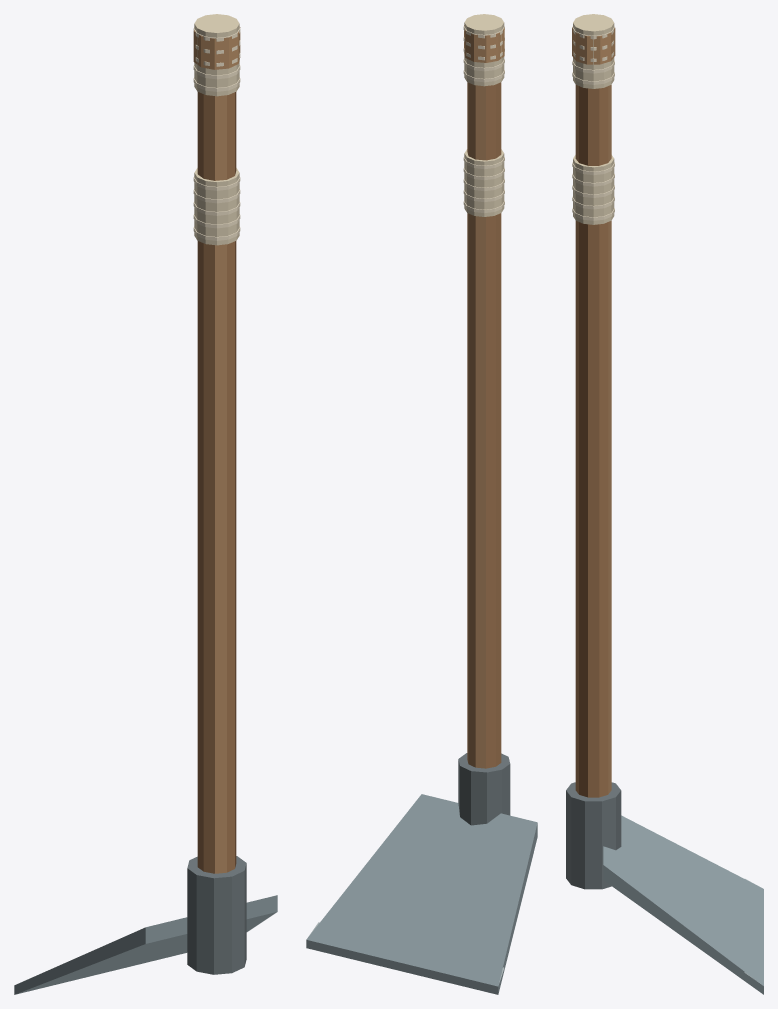
File: hoe.glb
3 renders of one model, left to right at view 1: azimuth 30°, elevation 25°; view 2: azimuth 150°, elevation 25°; view 3: azimuth 270°, elevation 25°, orthographic. The views are drawn at different scales.
Visible parts, largest first — view 1: Hoe_WoodHandle, Hoe_IronSocket, Hoe_ForgedBlade, Hoe_ClothGrip_L, Hoe_ClothGrip_R, Hoe_HandleButt; view 2: Hoe_ForgedBlade, Hoe_WoodHandle, Hoe_IronSocket, Hoe_ClothGrip_L, Hoe_ClothGrip_R, Hoe_HandleButt; view 3: Hoe_WoodHandle, Hoe_ForgedBlade, Hoe_IronSocket, Hoe_ClothGrip_L, Hoe_ClothGrip_R, Hoe_HandleButt.
Boxes of the visible parts, left/top/right/bottom form: Hoe_WoodHandle: left=197, top=92, right=236, bottom=873; Hoe_IronSocket: left=187, top=856, right=246, bottom=974; Hoe_ForgedBlade: left=14, top=895, right=277, bottom=994; Hoe_ClothGrip_L: left=194, top=168, right=239, bottom=245; Hoe_ClothGrip_R: left=194, top=14, right=239, bottom=96; Hoe_HandleButt: left=193, top=27, right=240, bottom=69; Hoe_ForgedBlade: left=306, top=794, right=537, bottom=994; Hoe_WoodHandle: left=467, top=82, right=501, bottom=768; Hoe_IronSocket: left=458, top=753, right=510, bottom=825; Hoe_ClothGrip_L: left=464, top=149, right=504, bottom=216; Hoe_ClothGrip_R: left=464, top=14, right=504, bottom=86; Hoe_HandleButt: left=464, top=25, right=504, bottom=62; Hoe_WoodHandle: left=575, top=85, right=611, bottom=797; Hoe_ForgedBlade: left=603, top=815, right=763, bottom=994; Hoe_IronSocket: left=566, top=782, right=621, bottom=889; Hoe_ClothGrip_L: left=573, top=155, right=614, bottom=224; Hoe_ClothGrip_R: left=573, top=14, right=614, bottom=88; Hoe_HandleButt: left=572, top=27, right=615, bottom=64.
Size of the model in its own units: 0.192 by 0.8495 by 0.165.
